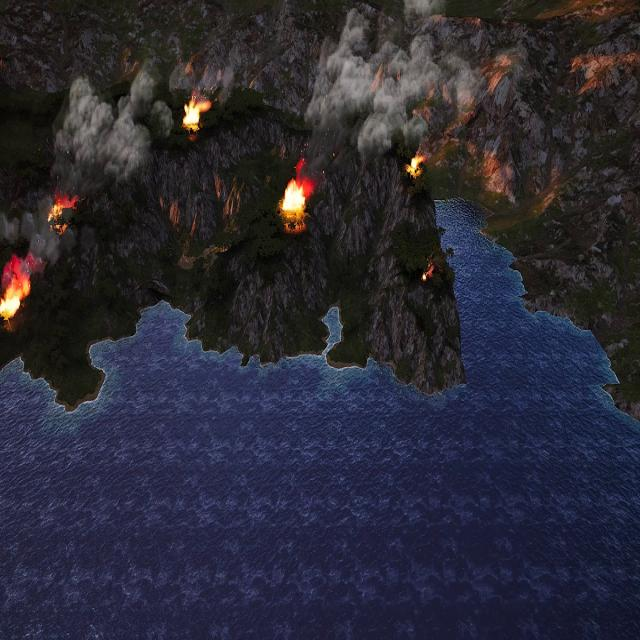fire: (0, 262, 29, 318), (280, 176, 312, 214), (50, 195, 78, 226), (183, 99, 209, 129), (409, 156, 424, 176), (421, 266, 435, 286)
smoke: (308, 0, 485, 157), (53, 68, 166, 190), (0, 195, 67, 282)
